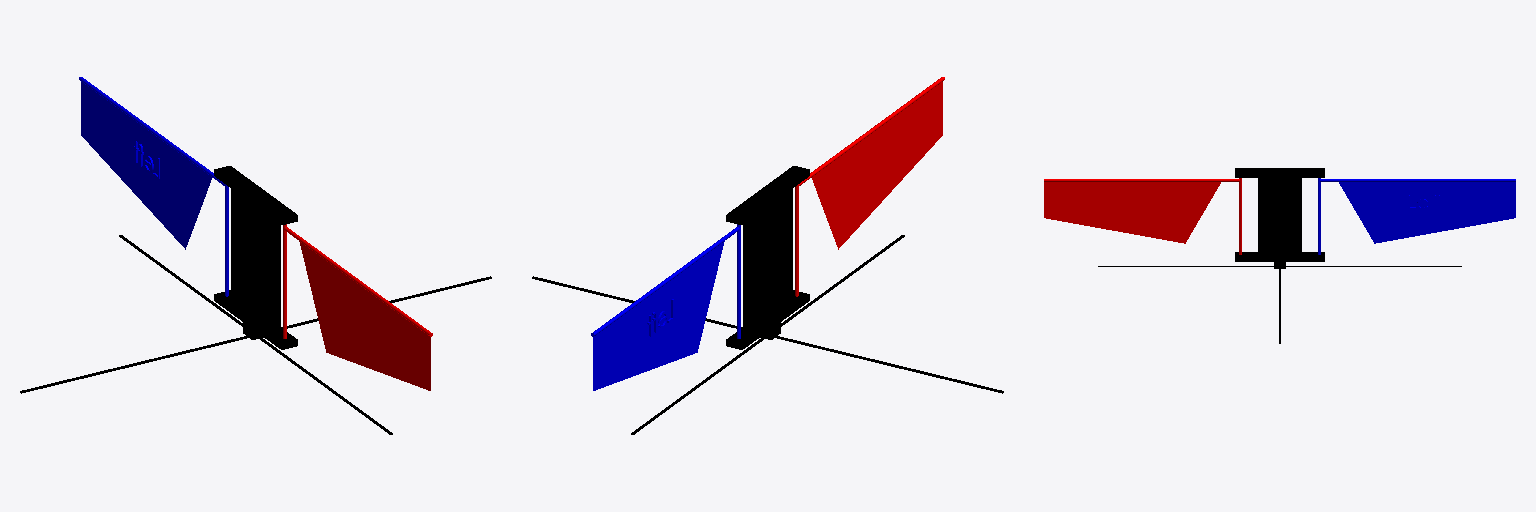
robot.urdf — flapper_sc:
<?xml version="1.0" ?>
<!--**********************  FWMAV Simulation  *************************
# Version 0.3
# [author]		Feb 2019
# Direct motor driven flapping wing MAV simulation
********************************************************************-->
<robot name="flapper_sc">

	<material name = "flapper/black">
		<color rgba = "0 0 0 1"/>
	</material>

	<material name = "flapper/blue">
		<color rgba = "0.0 0.0 1.0 1"/>
	</material>

	<material name = "flapper/red">
		<color rgba = "1.0 0.0 0.0 1"/>
	</material>

	<!--link name = "world"/>
	<joint name = "torso_to_world" type="floating">
		<parent link = "world"/>
		<child link = "torso"/>
		<origin xyz = "0 0 0" rpy = "0 0 0"/>
	</joint-->

	<link name = "torso">
		<inertial>
			<origin xyz = "0.1797E-3 0.0008E-3 -1.3998E-3" rpy = "0 0 0"/>
			<mass value = "10.9067E-3"/>
			<inertia
				ixx = "4238.1285E-9"
				iyy = "3970.1646E-9"
				izz = "2440.9505E-9"
				ixy = "-76.8896E-9"
				iyz = "0.3011E-9"
				ixz = "16.5500E-9"/>
		</inertial>
		<visual>
			<origin xyz = "0 0 0" rpy = "0 0 0"/>
			<geometry>
				<mesh filename = "meshes/torso_small_base.STL"/>
			</geometry>
			<material name = "flapper/black"/>
		</visual>
		<collision>
			<origin xyz = "0 0 0" rpy = "0 0 0"/>
			<geometry>
				<mesh filename = "meshes/torso_small_base.STL"/>
			</geometry>
		</collision>
	</link>

	<link name = "left_wing">
		<inertial>
			<origin xyz = "0.0024E-3 37.3242E-3 -9.8917E-3" rpy = "0 0 0"/>
			<mass value = "0.0626E-3"/>
			<inertia
				ixx = "21.4402E-9"
				iyy = "2.2204E-9"
				izz = "19.2209E-9"
				ixy = "-0.0000E-9"
				iyz = "0.1968E-9"
				ixz = "-0.0001E-9"/>
		</inertial>
		<visual>
			<origin xyz = "0 0 0" rpy = "0 0 0"/>
			<geometry>
				<mesh filename = "meshes/Wing_Camber_70mm_C35mm_no_trailing_L.STL"/>
			</geometry>
			<material name = "flapper/blue"/>
		</visual>
		<collision>
			<origin xyz = "0 0 0" rpy = "0 0 0"/>
			<geometry>
				<mesh filename = "meshes/Wing_Camber_70mm_C35mm_no_trailing_L.STL"/>
			</geometry>
		</collision>
	</link>

	<link name = "right_wing">
		<inertial>
			<origin xyz = "-0.0024E-3 -37.3242E-3 -9.8917E-3" rpy = "0 0 0"/>
			<mass value = "0.0626E-3"/>
			<inertia
				ixx = "21.4402E-9"
				iyy = "2.2204E-9"
				izz = "19.2209E-9"
				ixy = "-0.0000E-9"
				iyz = "-0.1968E-9"
				ixz = "0.0001E-9"/>
		</inertial>
		<visual>
			<origin xyz = "0 0 0" rpy = "0 0 0"/>
			<geometry>
				<mesh filename = "meshes/right_wing.STL"/>
			</geometry>
			<material name = "flapper/red"/>
		</visual>
		<collision>
			<origin xyz = "0 0 0" rpy = "0 0 0"/>
			<geometry>
				<mesh filename = "meshes/right_wing.STL"/>
			</geometry>
		</collision>
	</link>

	<link name="left_leading_edge">
		<inertial>
			<origin xyz = "-0.2837E-3 3.3023E-3 -6.3984E-3" rpy = "0 0 0"/>
			<mass value = "0.7081E-3"/>
			<inertia
				ixx = "132.8411E-9"
				iyy = "47.7258E-9"
				izz = "90.6904E-9"
				ixy = "-0.0416E-9"
				iyz = "12.5149E-9"
				ixz = "-0.4990E-9"/>
		</inertial>
		<visual>
			<origin xyz = "0 0 0" rpy = "0 0 0"/>
			<geometry>
				<mesh filename = "meshes/left_LE.STL"/>
			</geometry>
			<material name = "flapper/blue"/>
		</visual>
	</link>

	<link name="right_leading_edge">
		<inertial>
			<origin xyz = "-0.2837E-3 -3.3023E-3 -6.3984E-3" rpy = "0 0 0"/>
			<mass value = "0.7081E-3"/>
			<inertia
				ixx = "132.8411E-9"
				iyy = "47.7258E-9"
				izz = "90.6904E-9"
				ixy = "0.0416E-9"
				iyz = "-12.5149E-9"
				ixz = "-0.4990E-9"/>
		</inertial>
		<visual>
			<origin xyz = "0 0 0" rpy = "0 0 0"/>
			<geometry>
				<mesh filename = "meshes/right_LE.STL"/>
			</geometry>
			<material name = "flapper/red"/>
		</visual>
	</link>

	<joint name = "left_stroke" type = "revolute">
		<parent link = "torso"/>
		<child link = "left_leading_edge"/>
		<origin xyz = "0 13.95E-3 18.9913E-3" rpy = "0 0 0"/>
		<axis xyz = "0 0 1"/>
		<dynamics friction = "1E-9" damping = "8E-9"/>
		<limit lower = "-1.63" upper = "1.63" effort = "0.02" velocity = "400"/>
	</joint>

	<joint name = "left_rotate" type = "revolute">
		<parent link = "left_leading_edge"/>
		<child link = "left_wing"/>
		<origin xyz = "0 0 0" rpy = "0 0 0"/>
		<axis xyz = "0 1 0"/>
		<dynamics friction = "1E-8" damping = "1E-9"/>
		<limit lower = "-0.7854" upper = "0.7854" effort = "0.02" velocity = "2000"/>
	</joint>

	<joint name = "right_stroke" type = "revolute">
		<parent link = "torso"/>
		<child link = "right_leading_edge"/>
		<origin xyz = "0 -13.95E-3 18.9913E-3" rpy = "0 0 0"/>
		<axis xyz = "0 0 -1"/>
		<dynamics friction = "1E-9" damping = "8E-9"/>
		<limit lower = "-1.63" upper = "1.63" effort = "0.02" velocity = "400"/>
	</joint>

	<joint name = "right_rotate" type = "revolute">
		<parent link = "right_leading_edge"/>
		<child link = "right_wing"/>
		<origin xyz = "0 0 0" rpy = "0 0 0"/>
		<axis xyz = "0 1 0"/>
		<dynamics friction = "1E-8" damping = "1E-9"/>
		<limit lower = "-0.7854" upper = "0.7854" effort = "0.02" velocity = "2000"/>
	</joint>
</robot>

--- Facts derived from the render (not from the file) ---
3 views of the same robot in one strip: view 1: azimuth 30°, elevation 25°; view 2: azimuth 150°, elevation 25°; view 3: azimuth 270°, elevation 25° (orthographic).
Robot: flapper_sc — 5 links, 4 joints (4 revolute); root link torso; default pose: all joints at 0.
Links seen in each view (by area): view 1: torso, right_wing, left_wing, right_leading_edge, left_leading_edge; view 2: torso, left_wing, right_wing, left_leading_edge, right_leading_edge; view 3: left_wing, right_wing, torso, left_leading_edge, right_leading_edge.
Boxes of the visible links, x1=… form: torso: x1=20, y1=166, x2=491, y2=434; right_wing: x1=299, y1=241, x2=430, y2=390; left_wing: x1=81, y1=82, x2=211, y2=249; right_leading_edge: x1=283, y1=224, x2=432, y2=338; left_leading_edge: x1=79, y1=77, x2=228, y2=296; torso: x1=532, y1=166, x2=1003, y2=434; left_wing: x1=593, y1=241, x2=724, y2=390; right_wing: x1=812, y1=82, x2=942, y2=249; left_leading_edge: x1=591, y1=224, x2=740, y2=338; right_leading_edge: x1=795, y1=77, x2=944, y2=296; left_wing: x1=1339, y1=182, x2=1515, y2=243; right_wing: x1=1044, y1=182, x2=1220, y2=243; torso: x1=1098, y1=168, x2=1461, y2=343; left_leading_edge: x1=1318, y1=178, x2=1515, y2=254; right_leading_edge: x1=1044, y1=178, x2=1241, y2=254.
Bounding box of the posed robot: 0.13 × 0.1679 × 0.038 m (x, y, z).
5 mesh visuals loaded from 5 distinct referenced files (5 binary STL).
